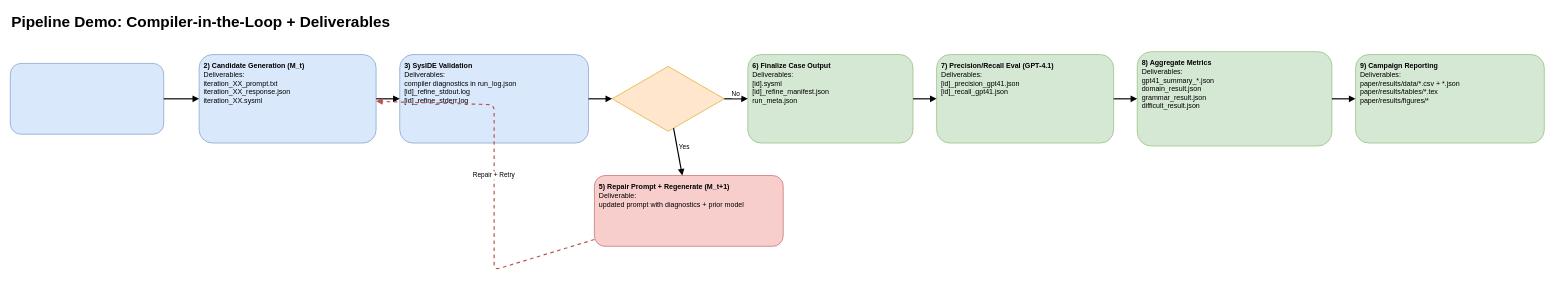
Image size: 1555x285. Some labels were removed from this diagram. The shapes that lost their labels are listed below. From the top down, each one's centre as x and y in pixels, then its label:
the point at 87,98: 1) NL Prompt Ingest Deliverable: api_loop/nl_prompts/[id]/nl.txt
the point at 668,98: 4) Compiler errors present?
